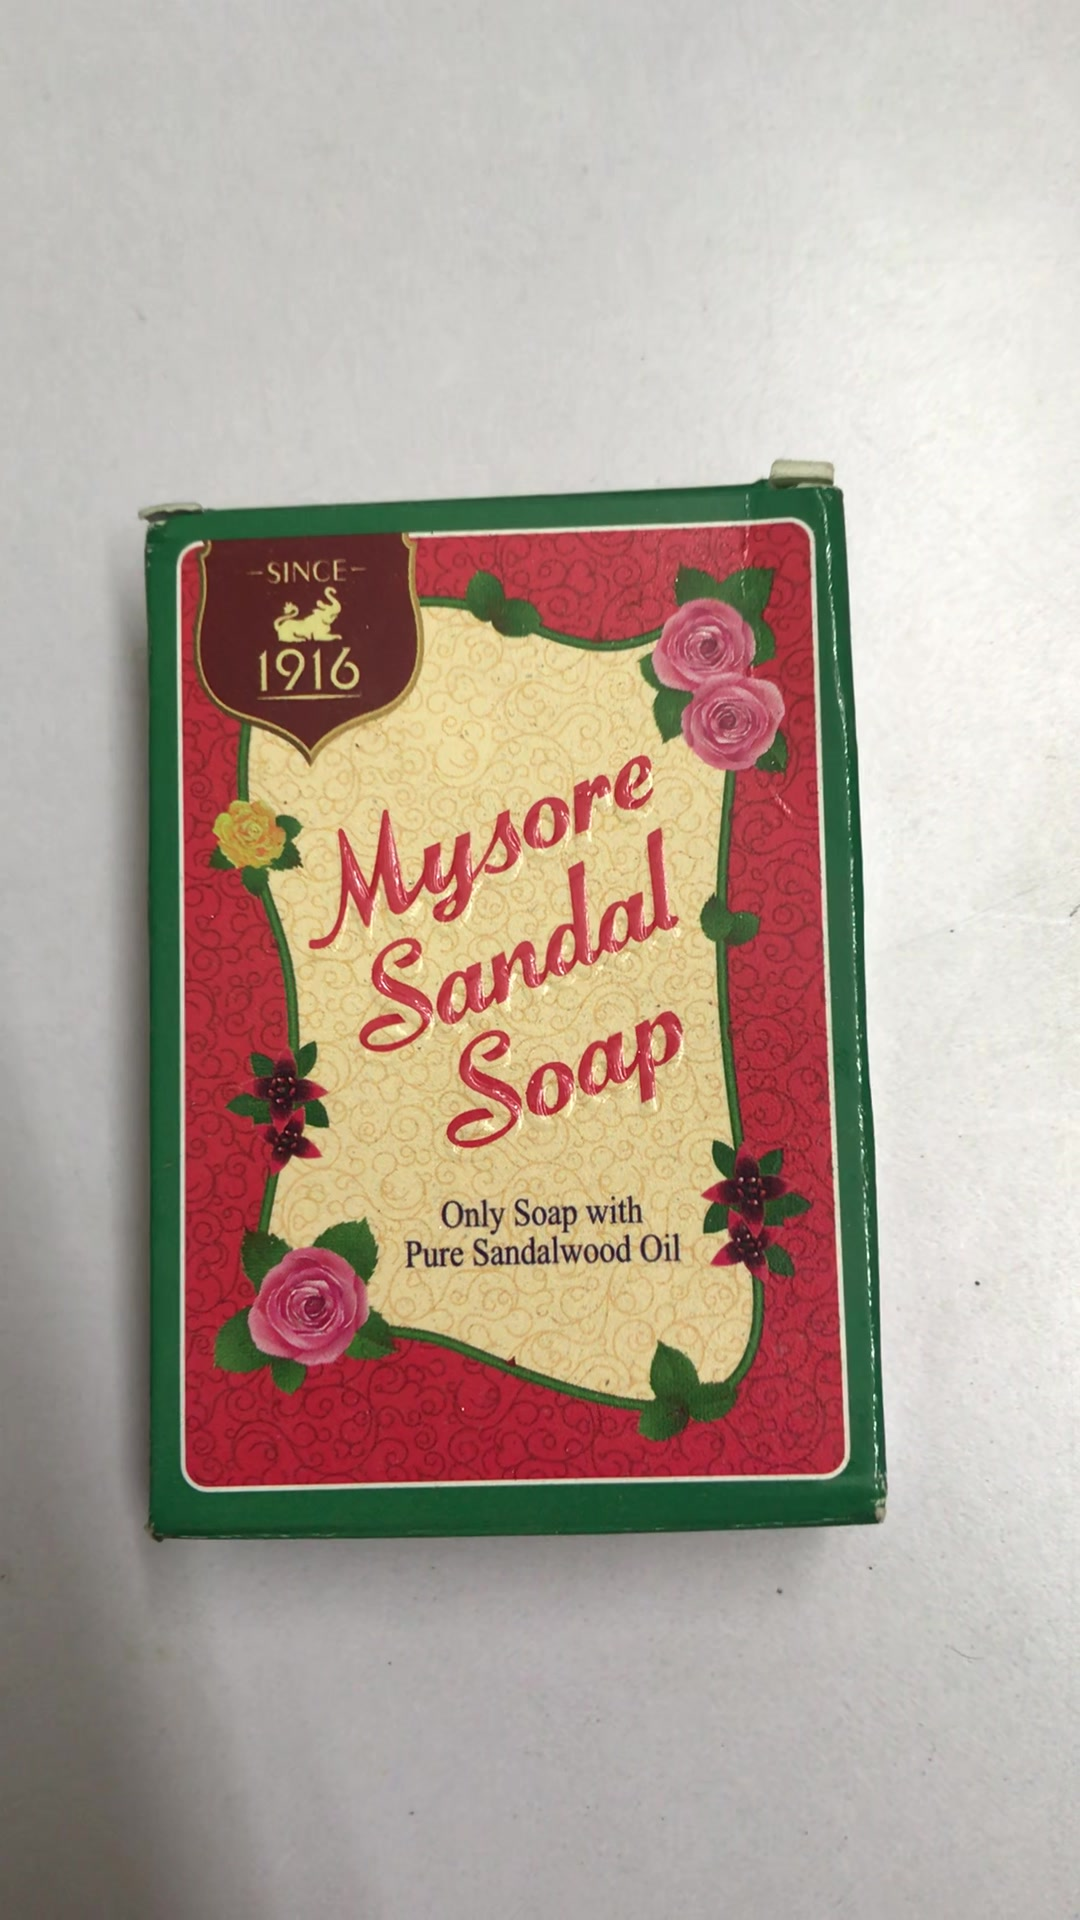mysore sandal soap: (149, 496, 870, 1519)
